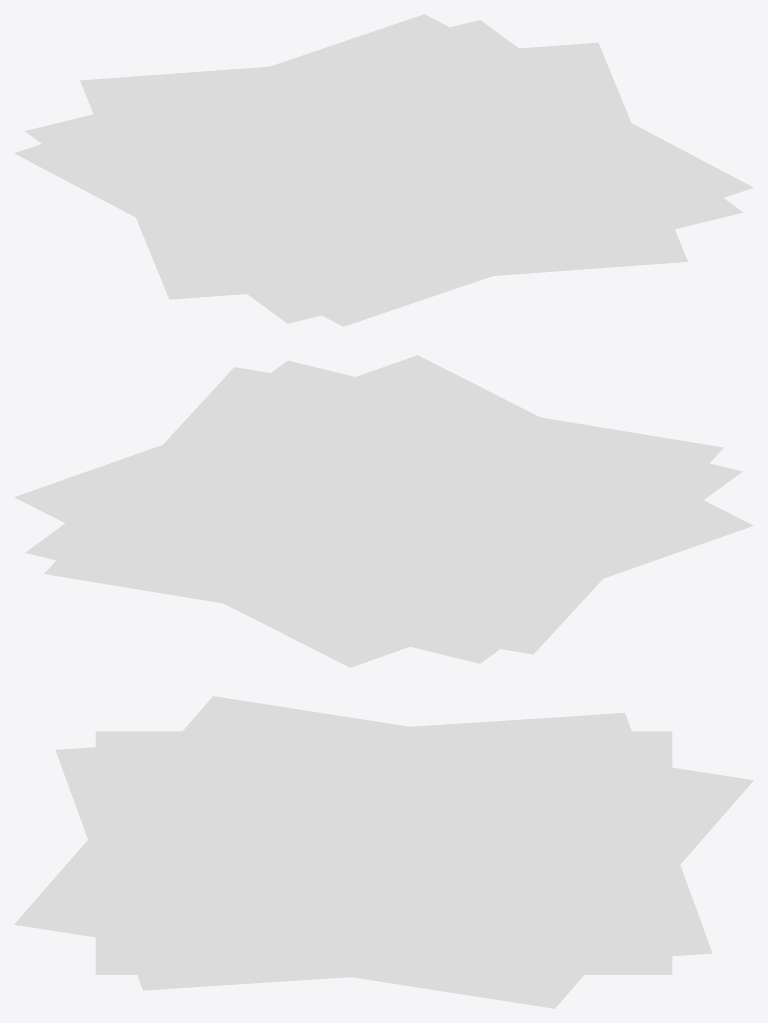
Rendered from IceSheet 2.fbx.
3 renders of one model, top to bottom at view 1: azimuth 30°, elevation 25°; view 2: azimuth 150°, elevation 25°; view 3: azimuth 270°, elevation 25°, orthographic. The views are drawn at different scales.
Parts seen in each view (by area): view 1: IceSheet_2; view 2: IceSheet_2; view 3: IceSheet_2.
Part boxes in pixels (x1,y1,x2,y2): IceSheet_2: (14,14,753,326); IceSheet_2: (14,355,753,667); IceSheet_2: (14,696,753,1008).
Bounding box in the file's own units: 251 × 0.5601 × 251.
1 material, 1 textured.
